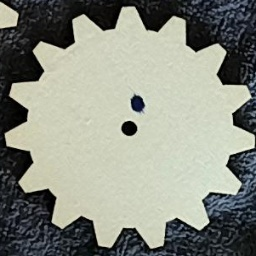Points: (127, 91, 148, 114)
